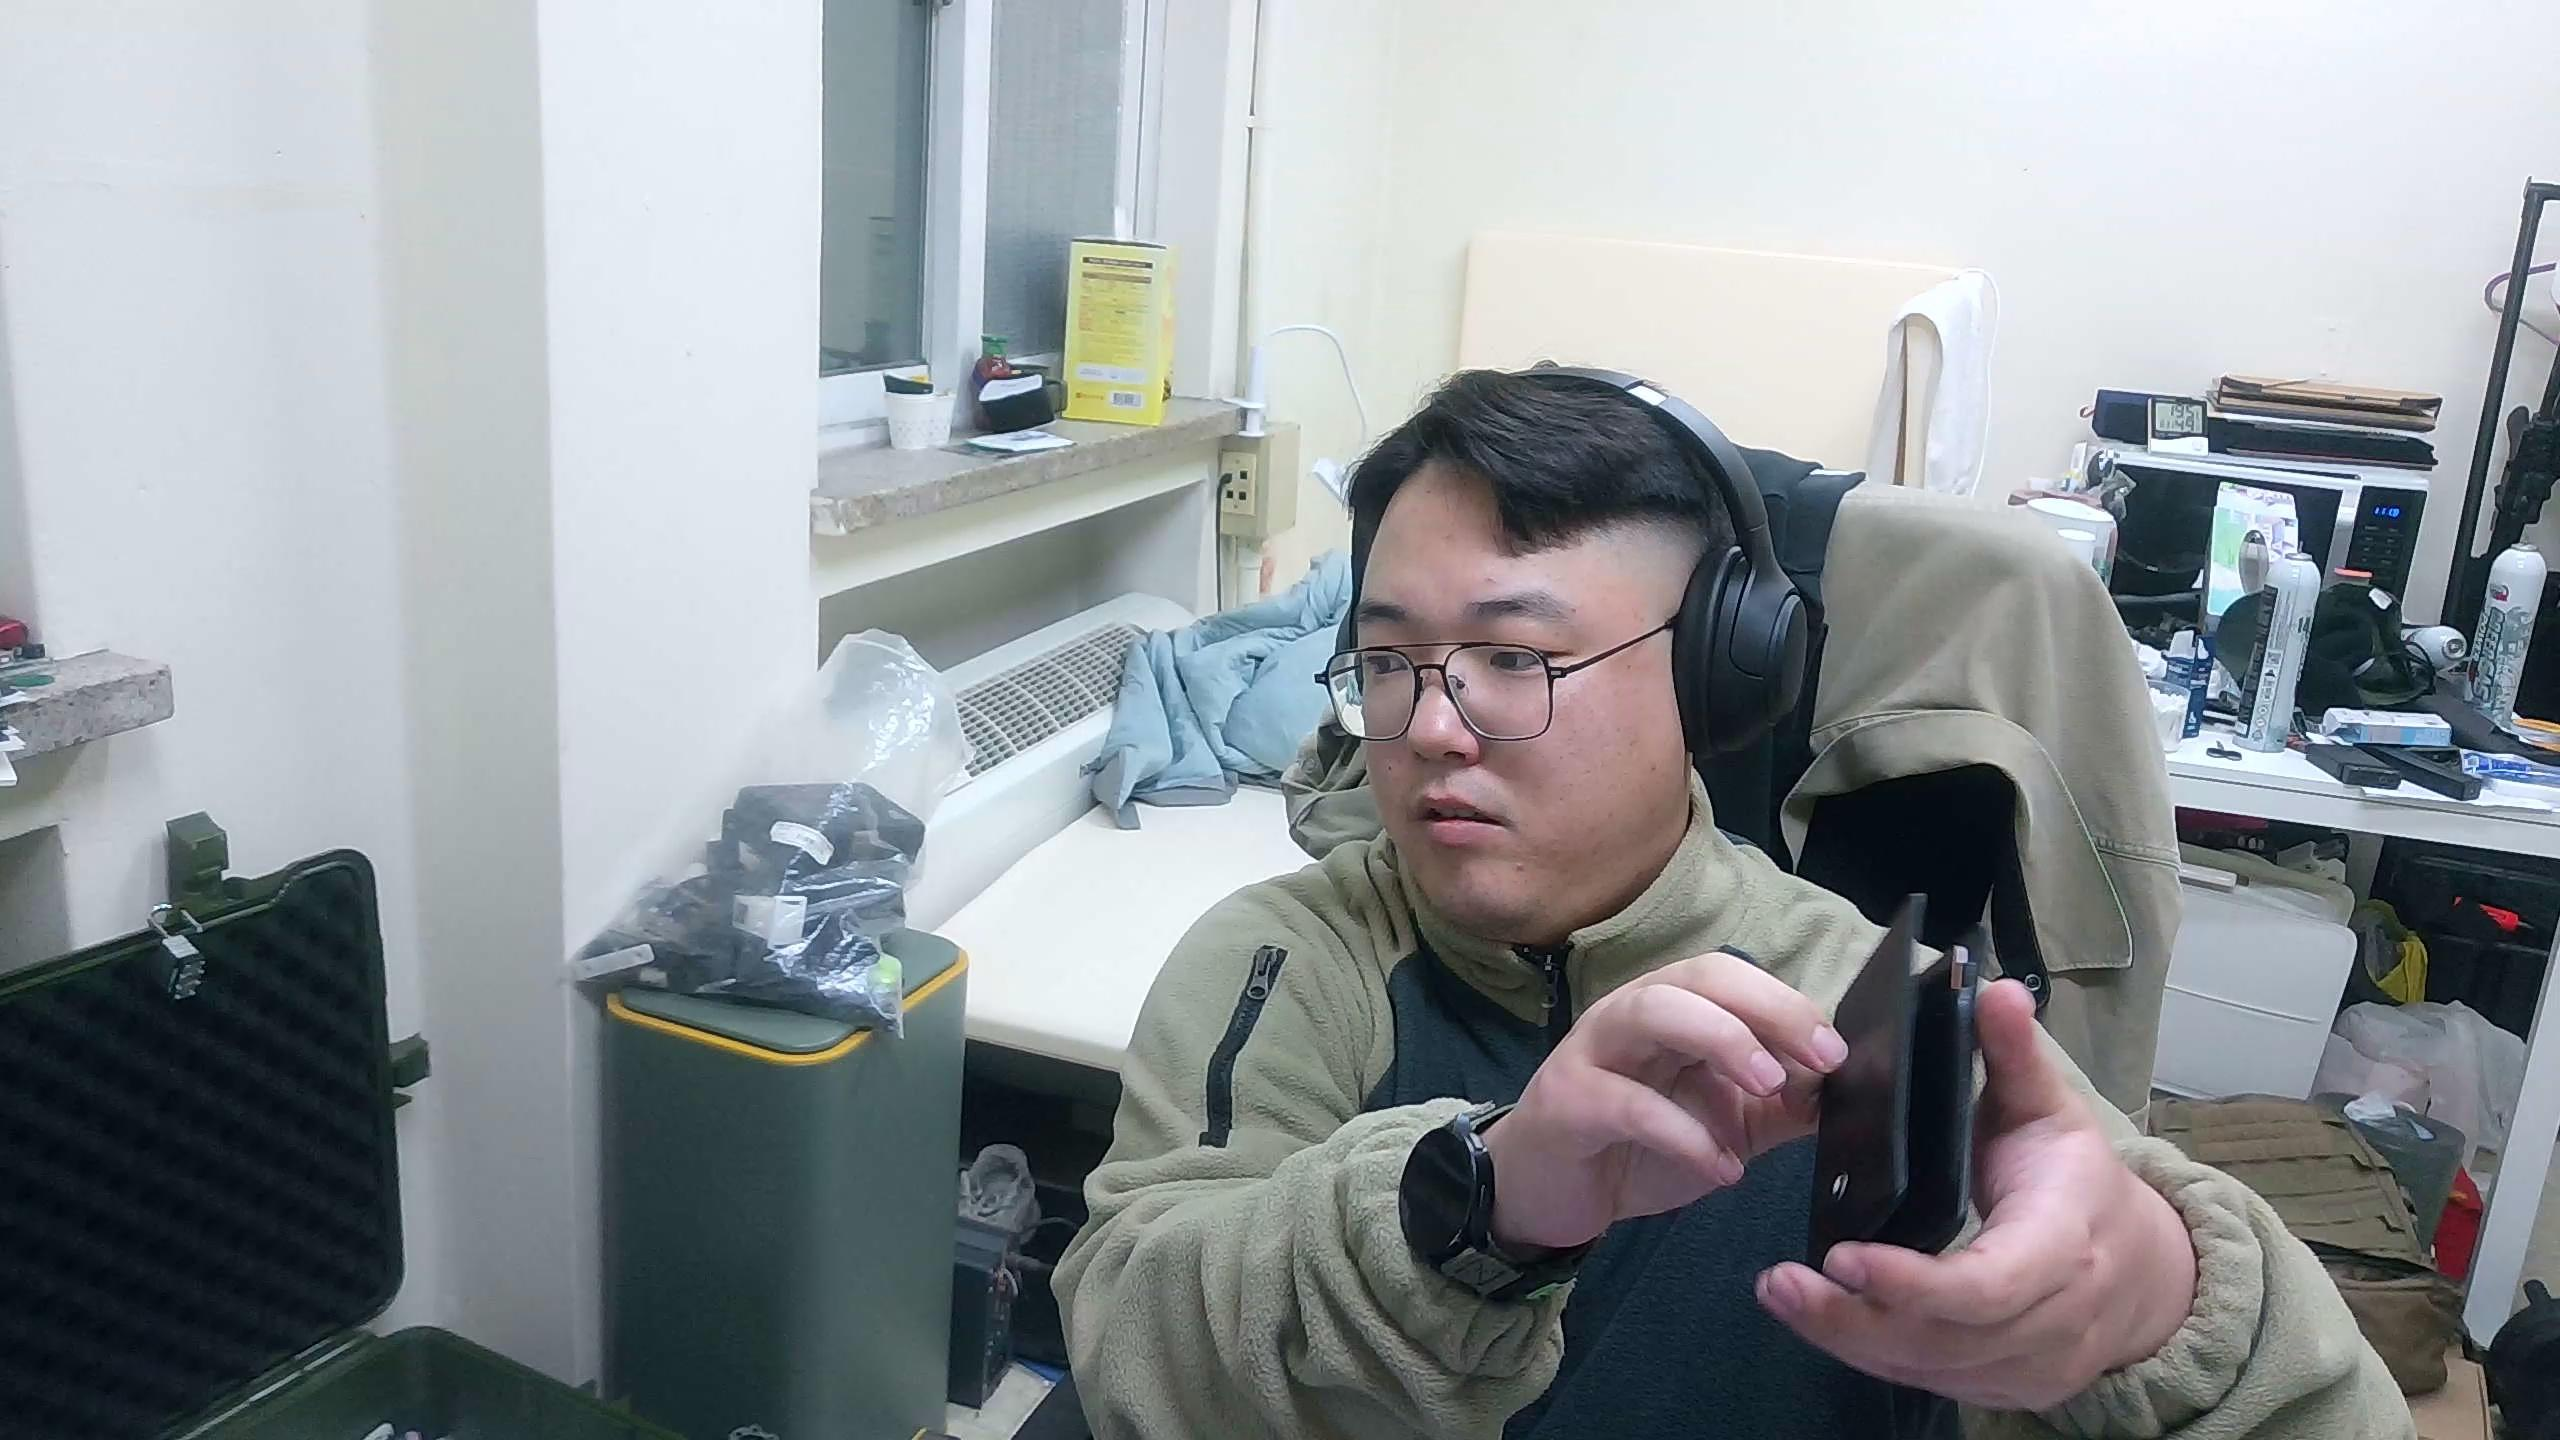Wallet: (1806, 891, 1990, 1275)
